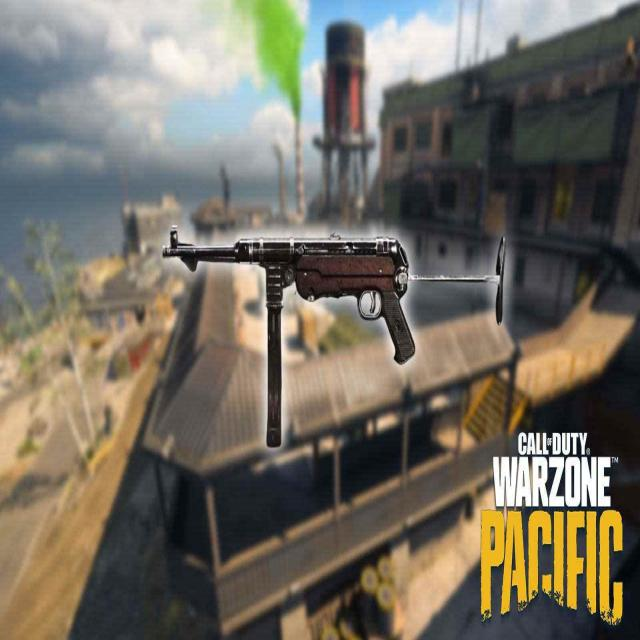SMG: (163, 230, 509, 449)
